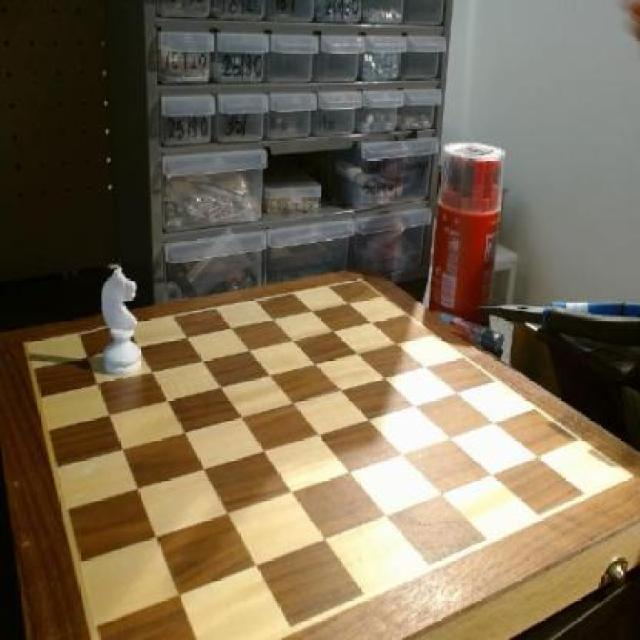white-king: (95, 268, 150, 385)
